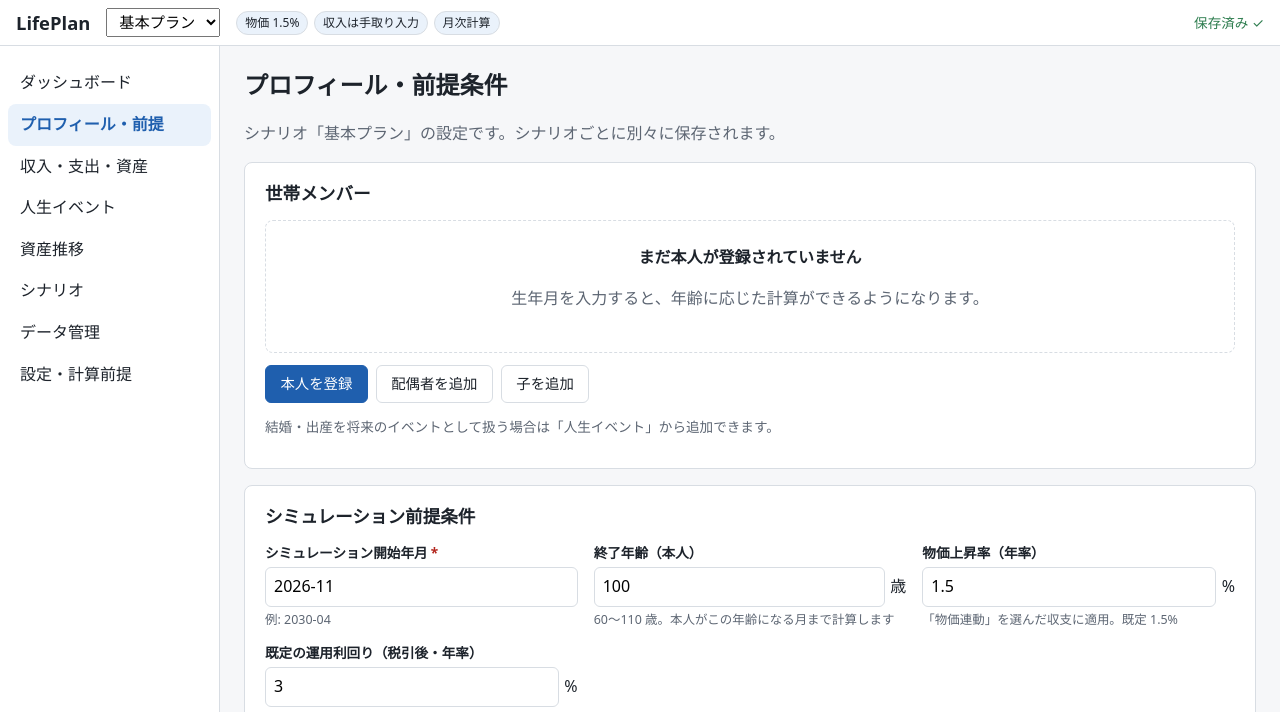
画面の基本操作 › 本人の生年月が未入力・不正ならエラーを表示して保存しない
Expected: the message "保存済み ✓" is shown, [1194,12,1264,34]
Click the button "本人を登録" at (316, 384), box [265,365,368,403]
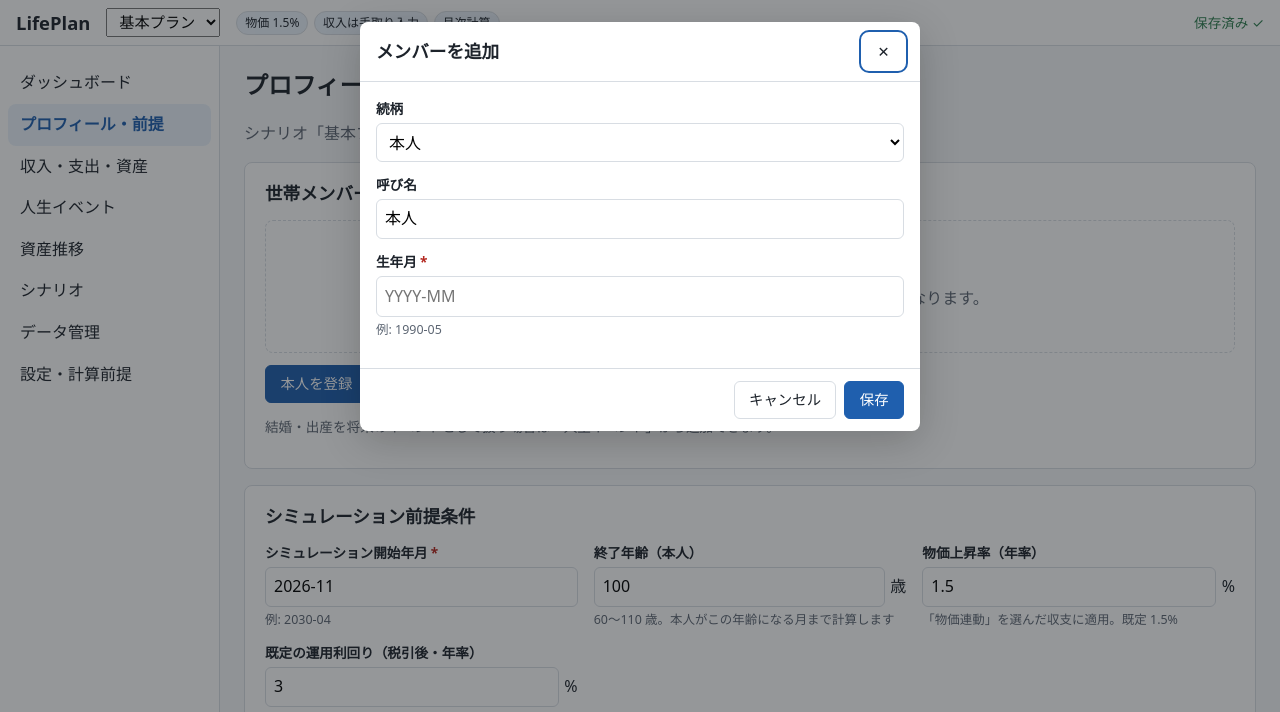
Click the button "保存" at (874, 400), box [844,381,904,419]
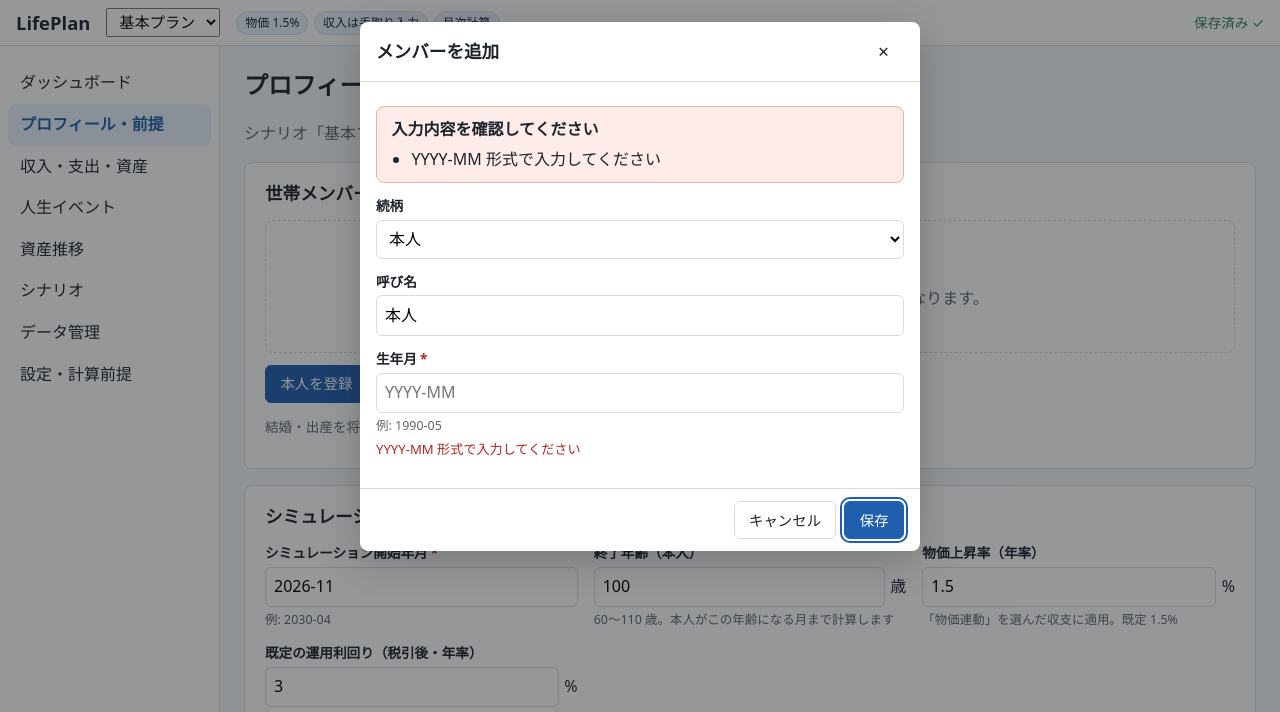
Expected: the list item "YYYY-MM 形式で入力してください" is shown, [411,148,661,170]
Type "2099-01" into the field labelled "生年月*" at (640, 393), box [376,373,904,413]
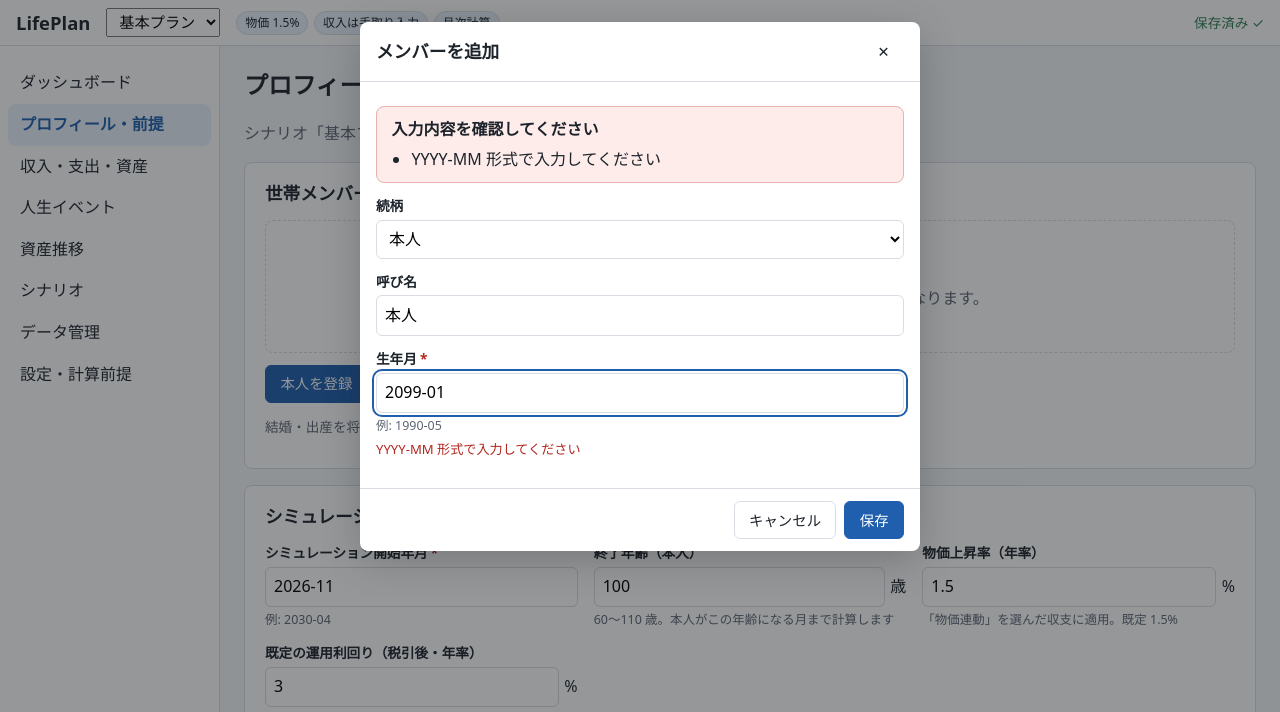
Click the button "保存" at (874, 520), box [844,502,904,539]
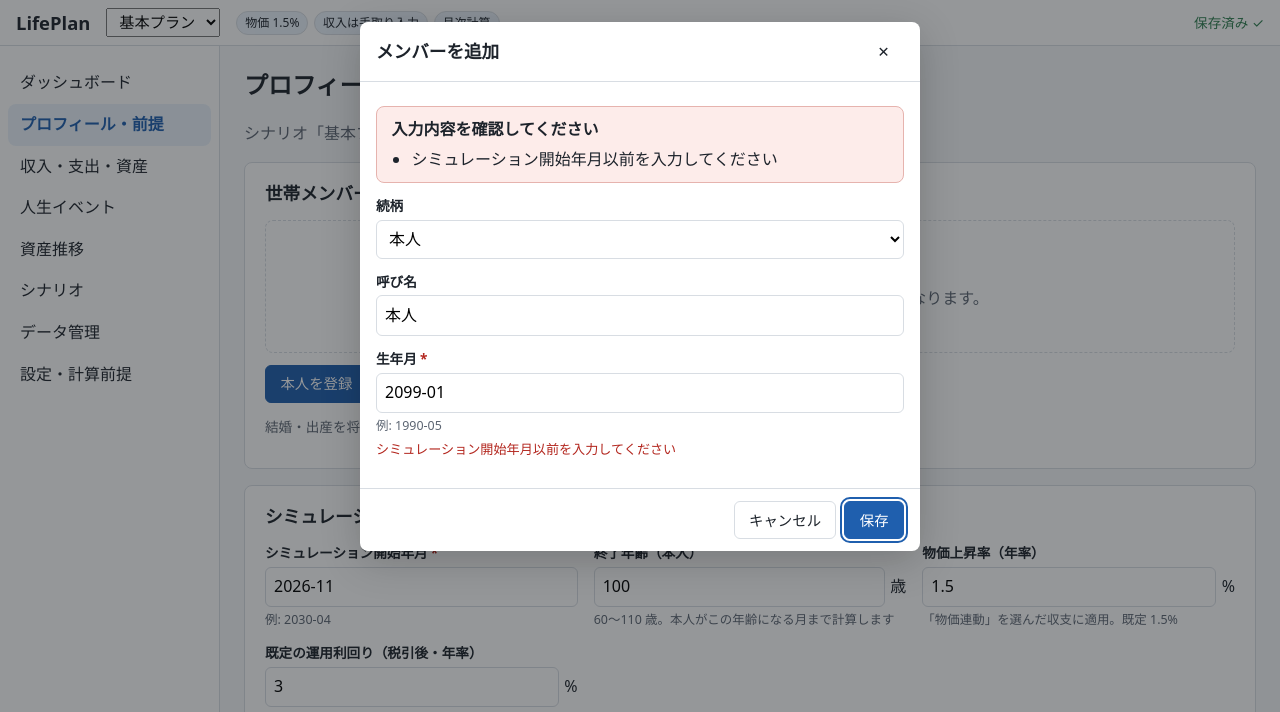
Expected: the list item "シミュレーション開始年月以前を入力してください" is shown, [411,148,778,170]
